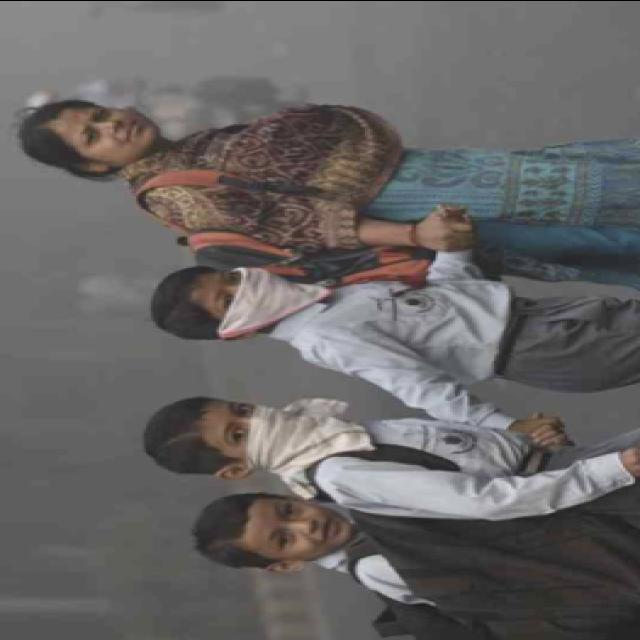mask: (204, 262, 290, 318), (212, 400, 297, 454)
no_mask: (258, 492, 353, 558), (70, 104, 158, 158)
